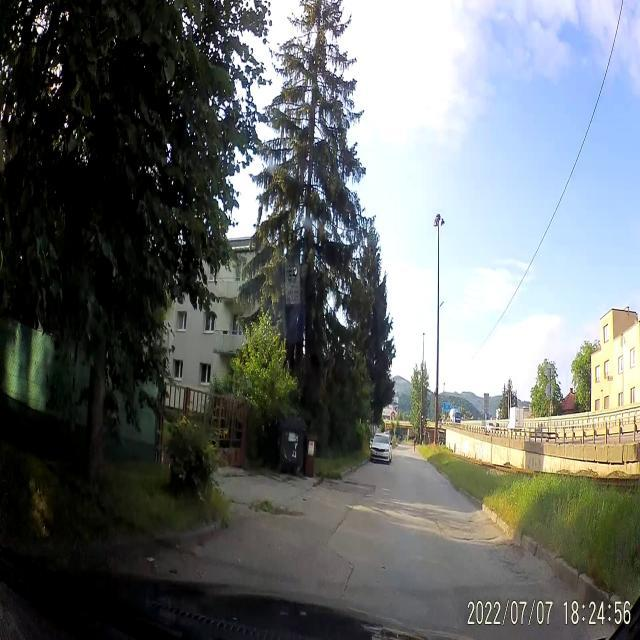Pothole: (486, 543, 546, 595)
